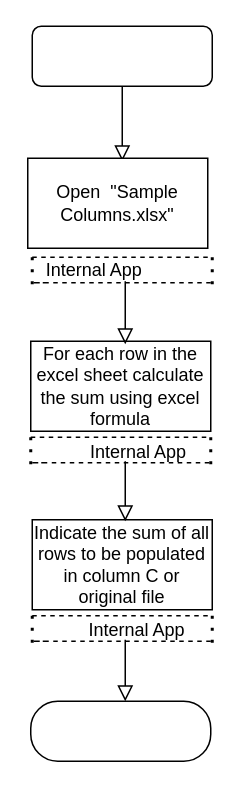
Some shapes in this 240 by 788 pixel diagram are drawn without their labels. Here are the shapes that lost their labels. From the top down, the centre of each, then its label:
(121,55): Start
(120,730): End
